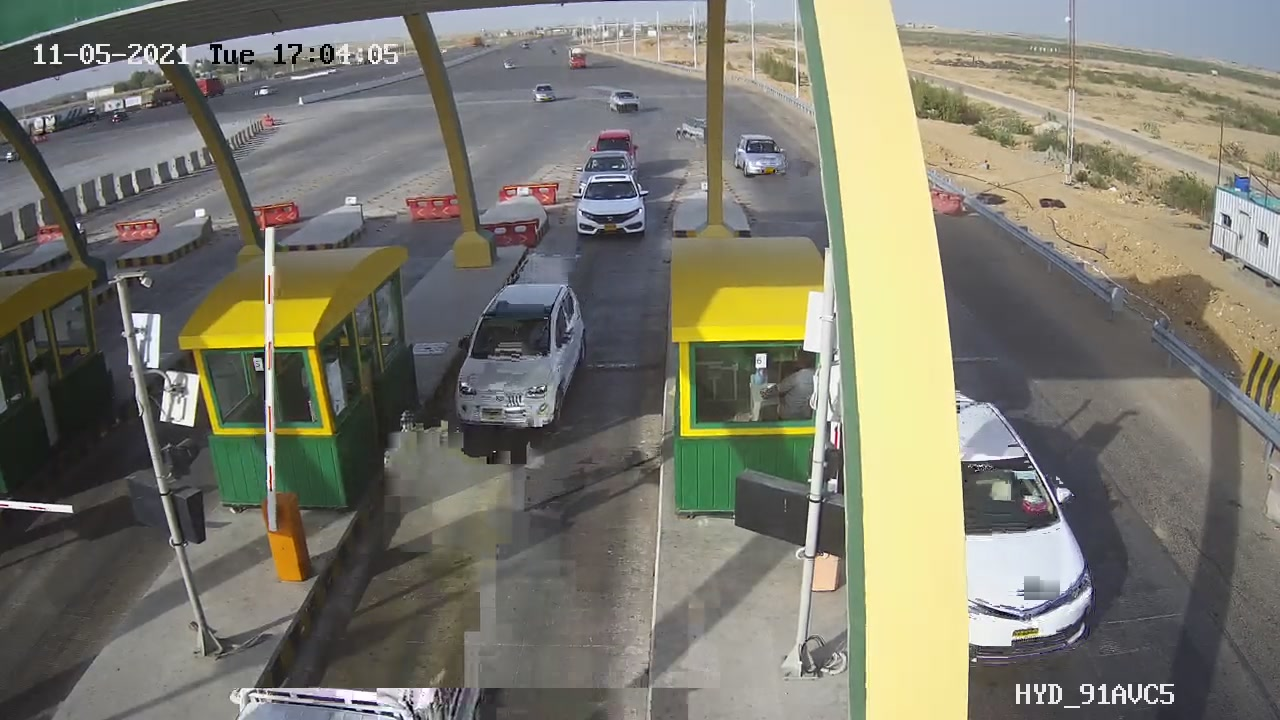F1: (561, 162, 657, 248)
